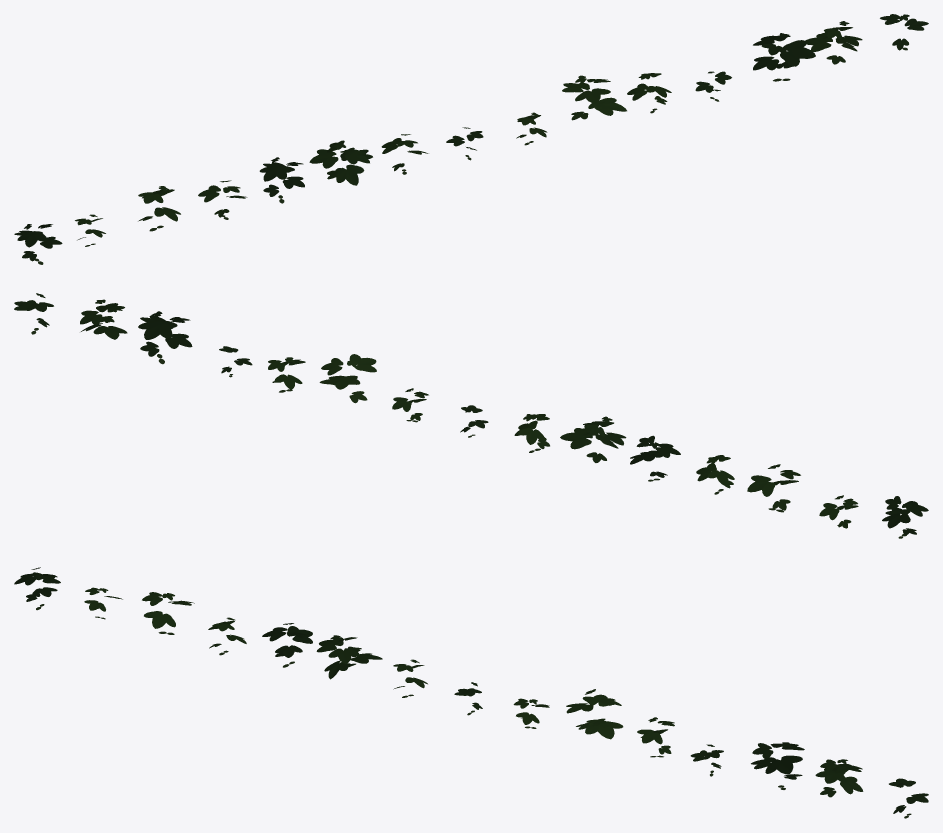
File: ROW_14_SEG0_foliage.dae
3 renders of one model, top to bottom at view 1: azimuth 30°, elevation 25°; view 2: azimuth 150°, elevation 25°; view 3: azimuth 330°, elevation 25°, orthographic.
Visible parts, largest first — view 1: ROW_14_SEG0_foliage; view 2: ROW_14_SEG0_foliage; view 3: ROW_14_SEG0_foliage.
Boxes of the visible parts, left/top/right/bottom form: ROW_14_SEG0_foliage: left=14, top=14, right=928, bottom=264; ROW_14_SEG0_foliage: left=14, top=293, right=928, bottom=538; ROW_14_SEG0_foliage: left=14, top=567, right=928, bottom=818.
Bounding box in the file's own units: 4.48 × 0.2909 × 0.2322.
